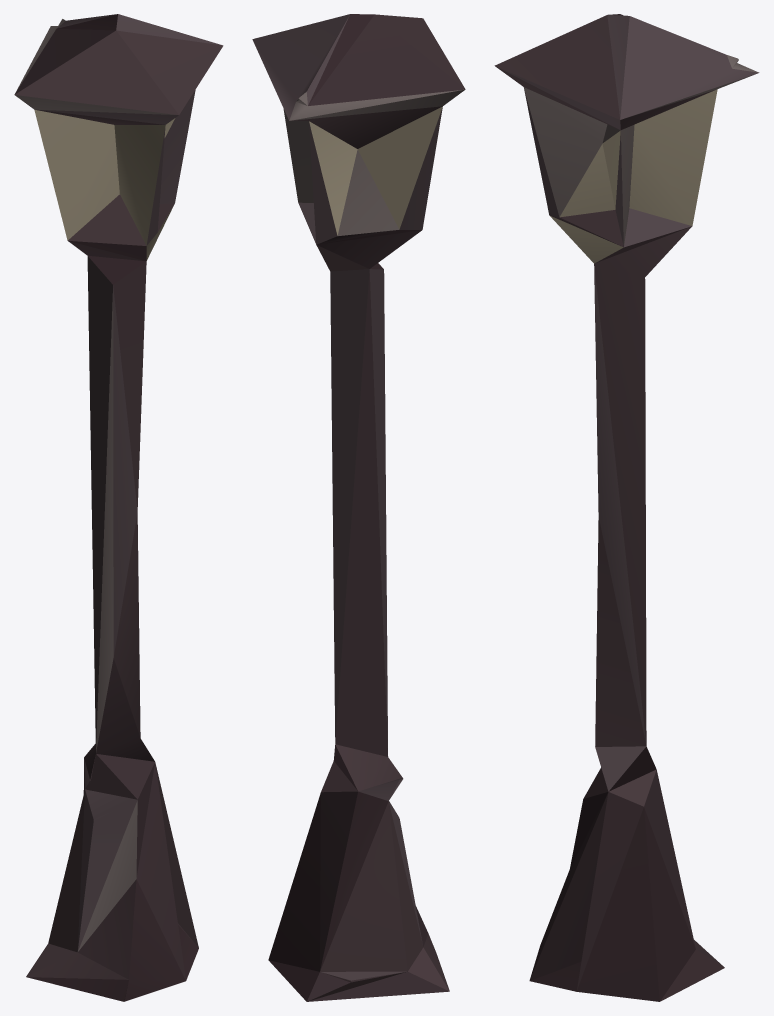
File: bg_city_pole_1_lod2.glb
The picture shows the model from 3 angles, left to right: view 1: azimuth 30°, elevation 25°; view 2: azimuth 150°, elevation 25°; view 3: azimuth 270°, elevation 25°; orthographic projection. The views are drawn at different scales.
Parts seen in each view (by area): view 1: body; view 2: body; view 3: body.
Boxes of the visible parts, left/top/right/bottom form: body: left=14, top=14, right=223, bottom=1001; body: left=252, top=14, right=465, bottom=1001; body: left=494, top=14, right=759, bottom=1001.
Bounding box in the file's own units: 0.9017 × 3.89 × 0.969.
